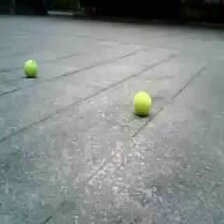tennis: (133, 91, 151, 116), (23, 60, 38, 76)
